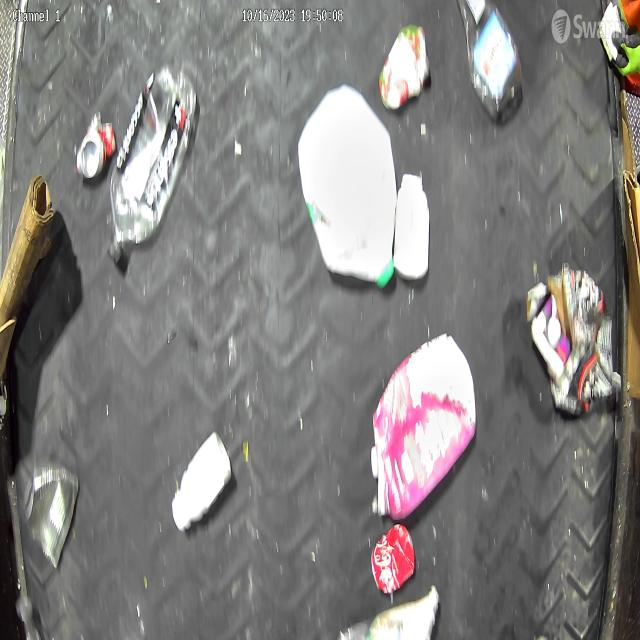can: (23, 464, 81, 567), (377, 23, 432, 112), (371, 522, 416, 594), (76, 116, 116, 181)
milk_jug: (297, 83, 398, 290)
non_white_jug: (370, 332, 478, 521)
plastic_bottle: (108, 64, 198, 270)
